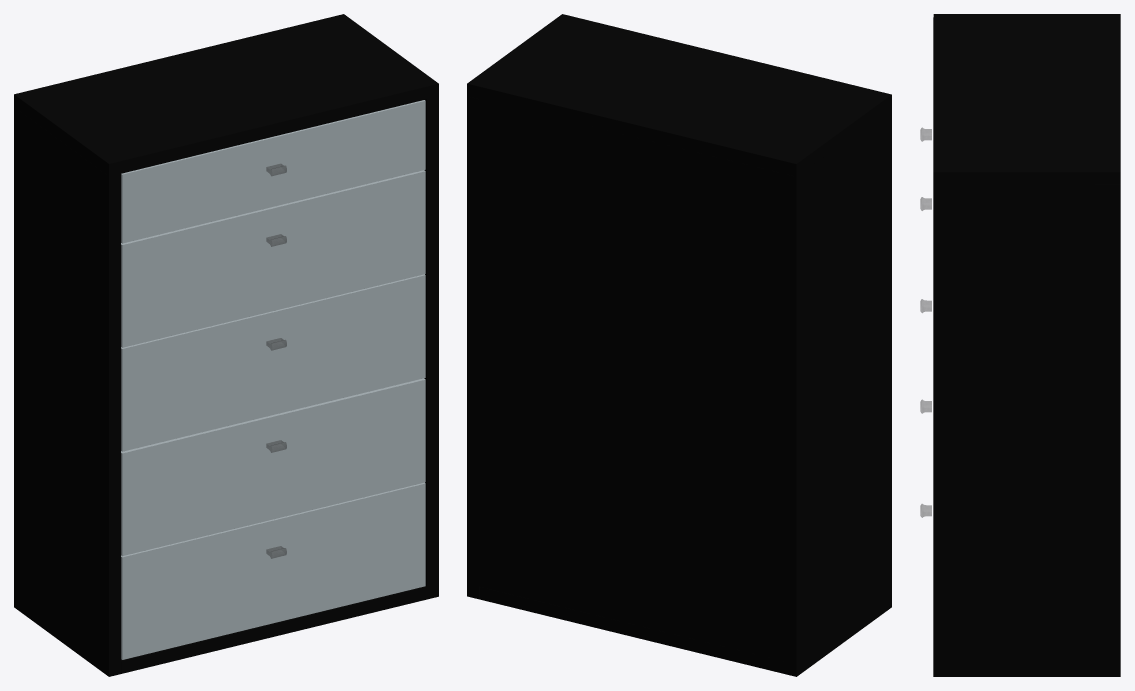
Rendered from cajonera.glb.
3 views of the same model, side by side, from view 1: azimuth 30°, elevation 25°; view 2: azimuth 150°, elevation 25°; view 3: azimuth 270°, elevation 25° (orthographic).
Visible parts, largest first — view 1: Locker 1.005; view 2: Locker 1.005; view 3: Locker 1.005.
Boxes of the visible parts, box(x1,y1,x2,y2) form: Locker 1.005: box(14, 14, 438, 676); Locker 1.005: box(467, 14, 891, 676); Locker 1.005: box(920, 14, 1120, 676).
Bounding box in the file's own units: 5.03 × 7.47 × 2.69.
3 materials, 1 textured.
